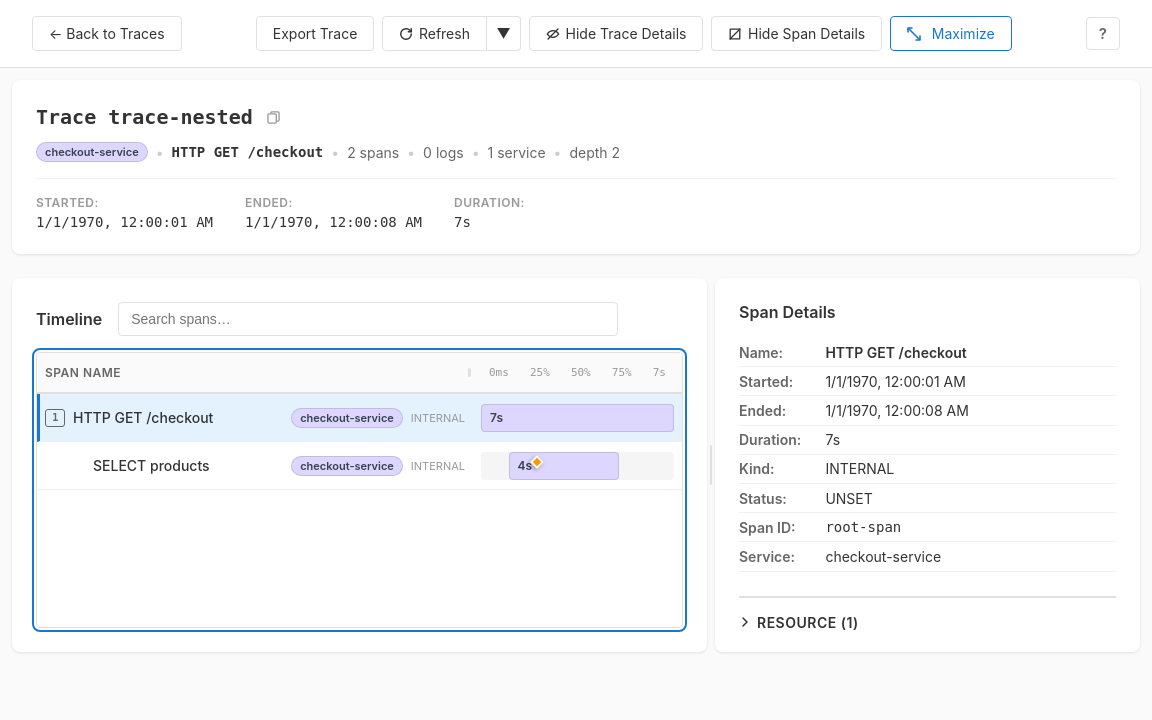
shows a refresh split-menu and toggles auto-refresh from it
Click the button named "Refresh options".
click(504, 34)  # box [487,16,521,51]
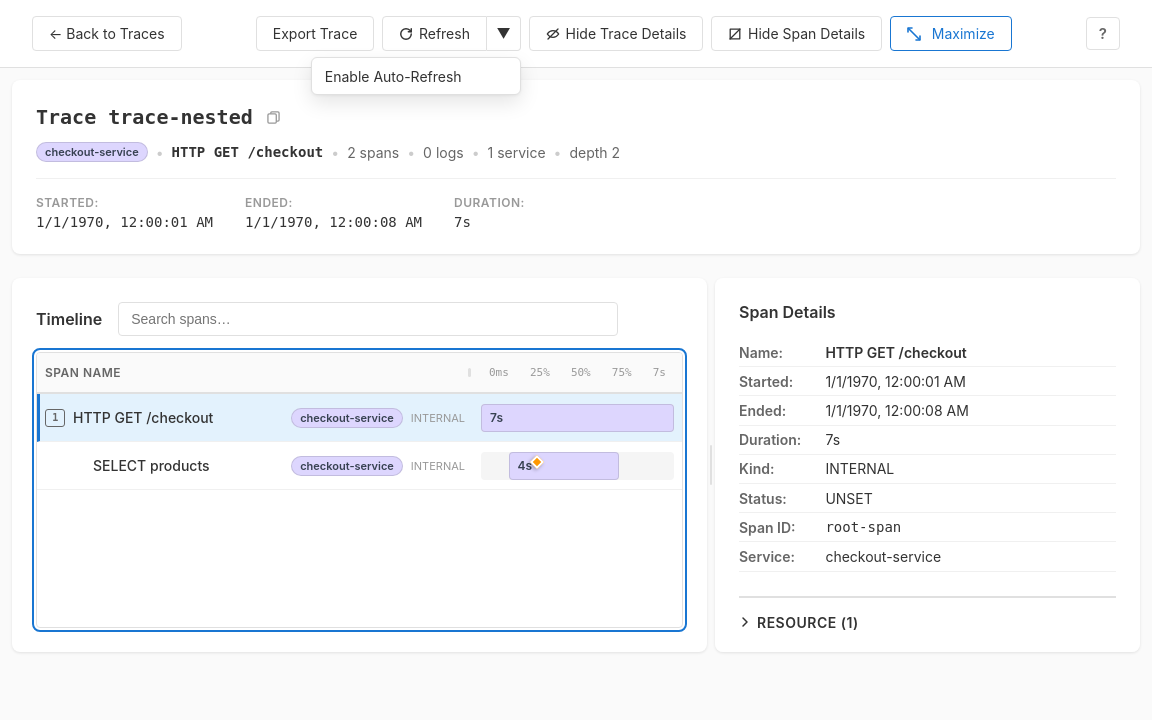
Click the menu item "Enable Auto-Refresh".
click(416, 76)  # box [312,58,520,94]
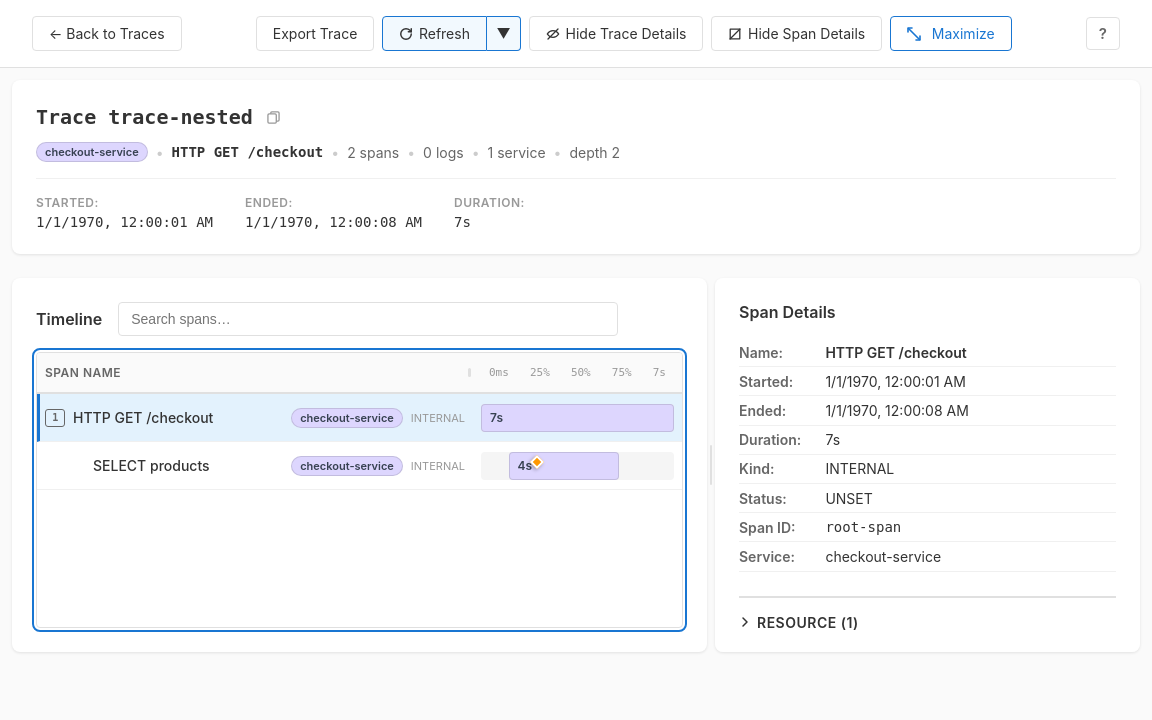
Click the button named "Refresh options".
click(504, 34)  # box [487,16,521,51]
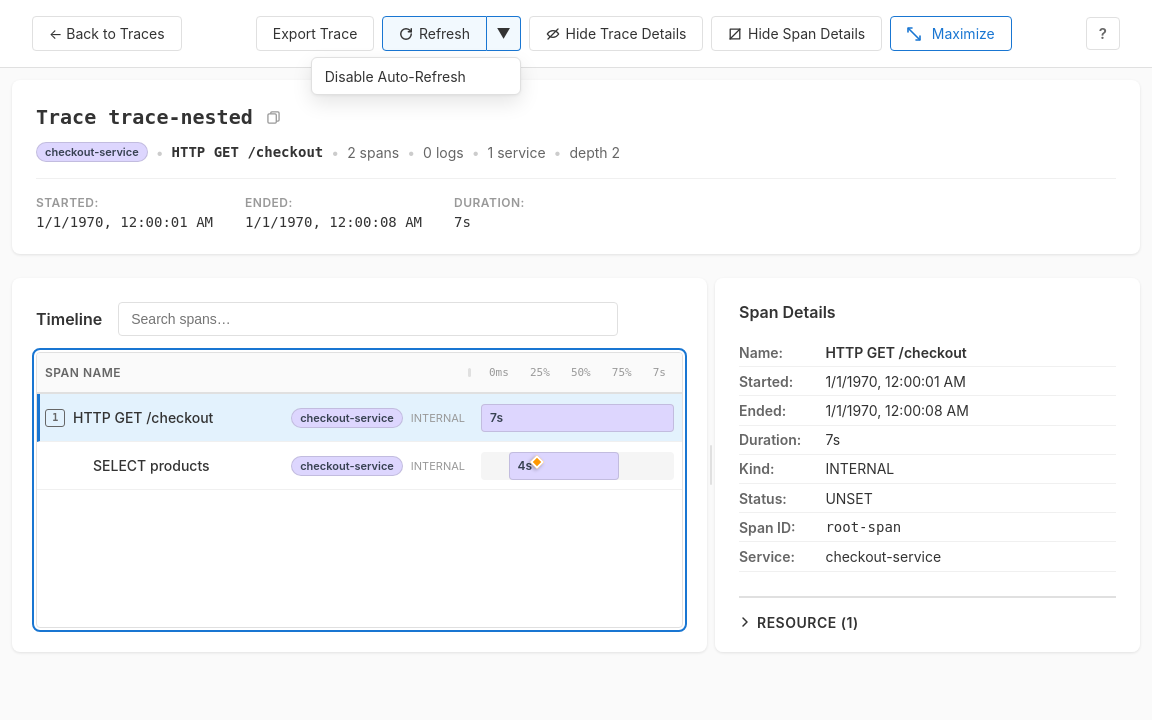
Check: the menu item "Disable Auto-Refresh" is shown, box [312,58,520,94]
